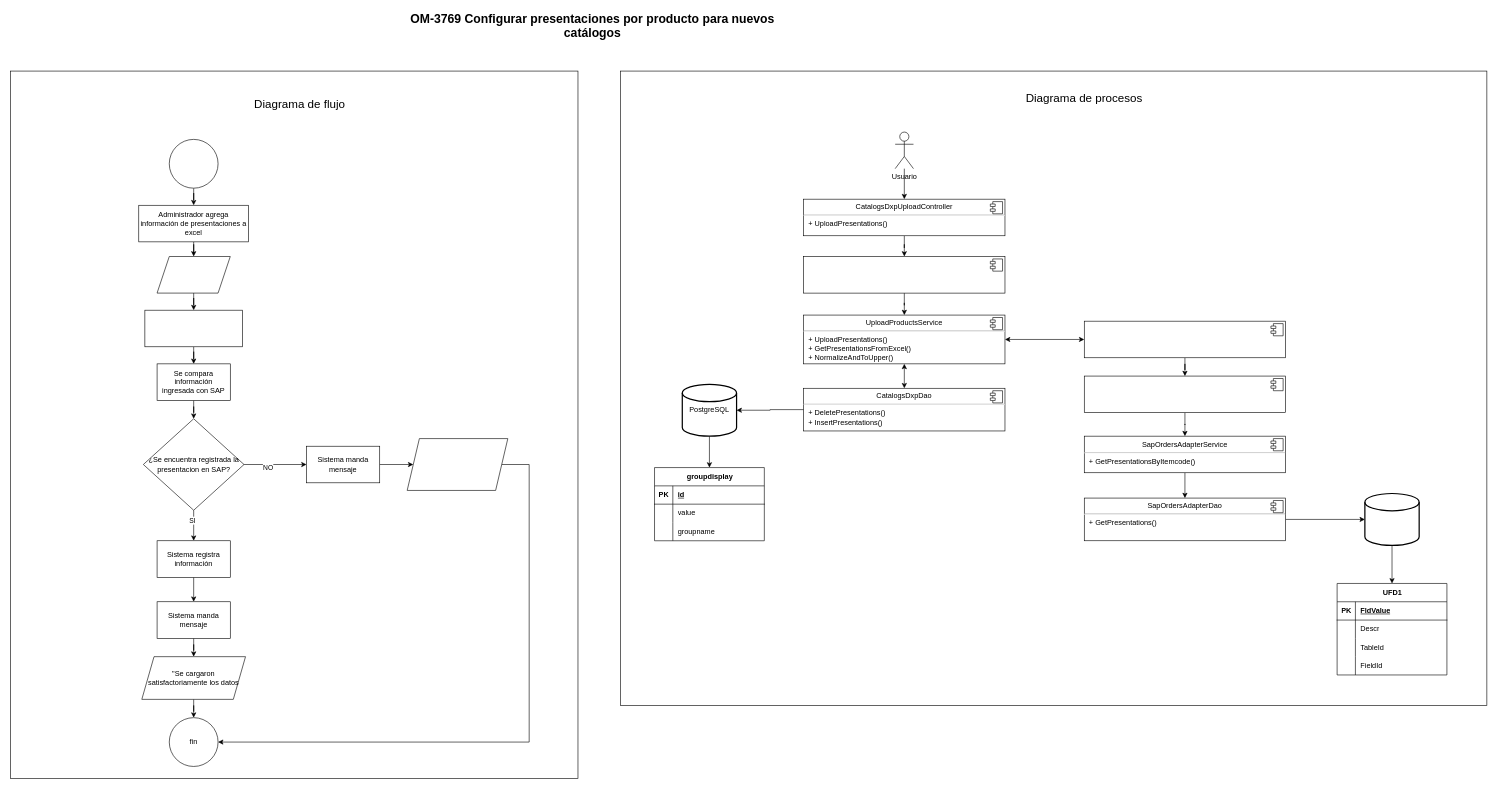
The diagram is 1498 pixels wide and 789 high, and some of its shapes have lost their labels. The centre of each missing label's shape, as x and y in pixels:
"Los siguientes presentaciones no se encuentran en SAP": [457,464]
inicio: [193,163]
Presentaciones: [193,274]
SapOrdersAdapterController + GetPresentations (): [1185,339]
SapOrdersAdapterFacade + GetPresentationsByItemcode (): [1185,394]
Sistema accede a SAP: [193,328]
SQL: [1391,519]
UploadCatalogsFacade + UploadPresentations(): [904,274]
